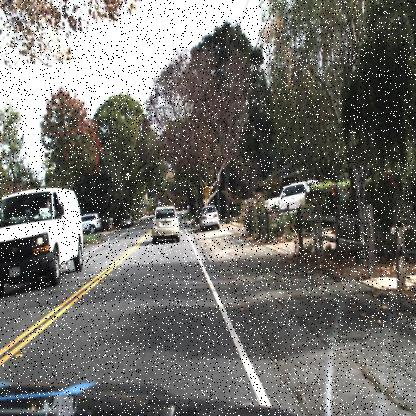car: (0, 188, 86, 292), (264, 175, 314, 220), (150, 204, 180, 244), (198, 205, 221, 231), (80, 213, 100, 232)
